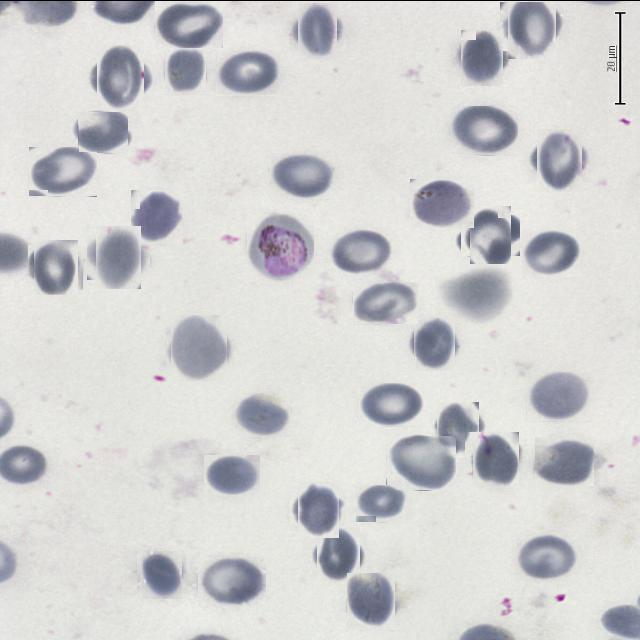difficult: (247, 212, 314, 278)
red blood cell: (386, 435, 456, 490), (168, 316, 230, 378), (28, 146, 97, 196), (449, 104, 518, 154), (198, 556, 266, 605), (526, 371, 590, 421), (155, 0, 223, 47), (410, 178, 474, 227), (92, 49, 148, 104), (503, 0, 560, 54), (270, 152, 335, 199), (534, 436, 594, 486), (516, 532, 578, 580), (532, 132, 587, 186), (91, 229, 146, 283), (330, 228, 394, 274), (217, 49, 280, 95), (359, 382, 424, 426), (344, 574, 397, 627), (353, 281, 418, 324), (522, 229, 581, 276), (131, 190, 184, 242), (471, 433, 522, 485), (314, 530, 364, 580), (466, 210, 516, 260), (30, 242, 80, 292), (433, 404, 482, 454), (235, 392, 290, 436), (458, 32, 507, 81), (294, 484, 342, 534), (410, 319, 458, 367), (294, 6, 342, 54), (204, 454, 260, 494), (138, 551, 184, 597), (78, 111, 128, 152), (163, 48, 208, 93), (355, 484, 406, 522)
